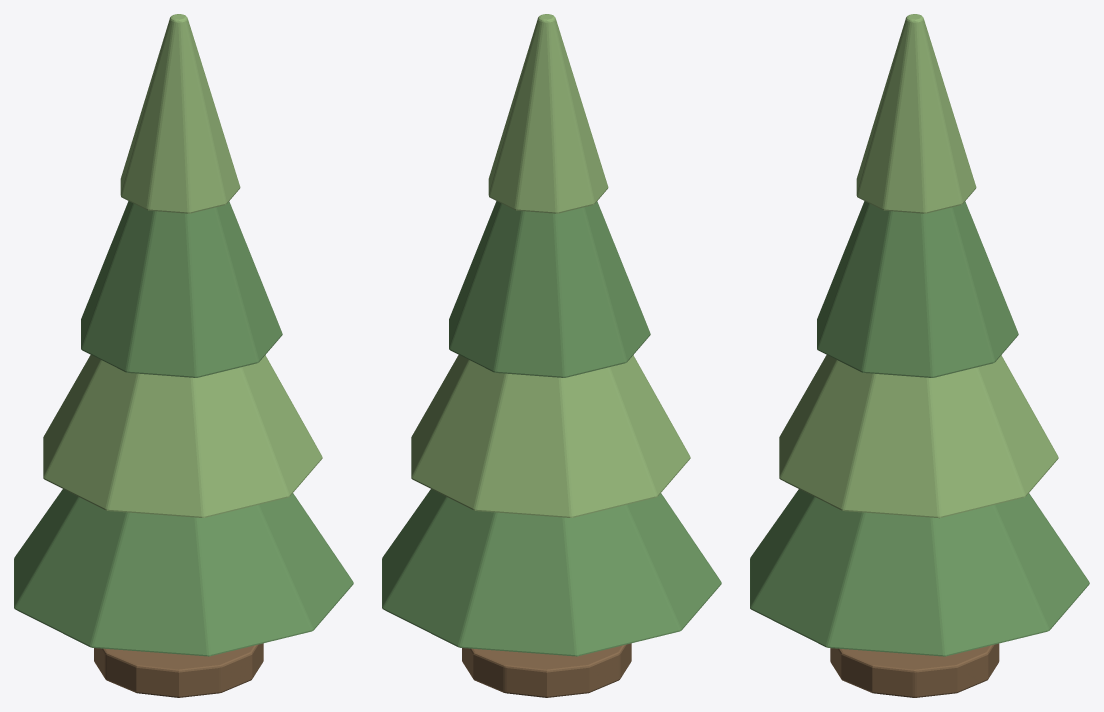
File: S067_layered_pine.glb
3 renders of one model, left to right at view 1: azimuth 30°, elevation 25°; view 2: azimuth 150°, elevation 25°; view 3: azimuth 270°, elevation 25°, orthographic.
Visible parts, largest first — view 1: faceted_pine_tier, faceted_pine_tier.001, faceted_pine_tier.002, faceted_pine_tier.003, pine_base; view 2: faceted_pine_tier, faceted_pine_tier.001, faceted_pine_tier.002, faceted_pine_tier.003, pine_base; view 3: faceted_pine_tier, faceted_pine_tier.001, faceted_pine_tier.002, faceted_pine_tier.003, pine_base.
Boxes of the visible parts, x1,y1,x2,y2 form: faceted_pine_tier: [14, 489, 353, 656]; faceted_pine_tier.001: [43, 355, 322, 517]; faceted_pine_tier.002: [81, 201, 282, 377]; faceted_pine_tier.003: [120, 14, 240, 213]; pine_base: [94, 643, 263, 697]; faceted_pine_tier: [382, 489, 721, 656]; faceted_pine_tier.001: [411, 355, 690, 517]; faceted_pine_tier.002: [449, 201, 650, 377]; faceted_pine_tier.003: [488, 14, 608, 213]; pine_base: [462, 643, 631, 697]; faceted_pine_tier: [750, 489, 1089, 656]; faceted_pine_tier.001: [779, 355, 1058, 518]; faceted_pine_tier.002: [817, 201, 1018, 377]; faceted_pine_tier.003: [856, 14, 976, 213]; pine_base: [830, 643, 999, 697].
Size of the model in its own units: 1.54 by 3.19 by 1.52.
